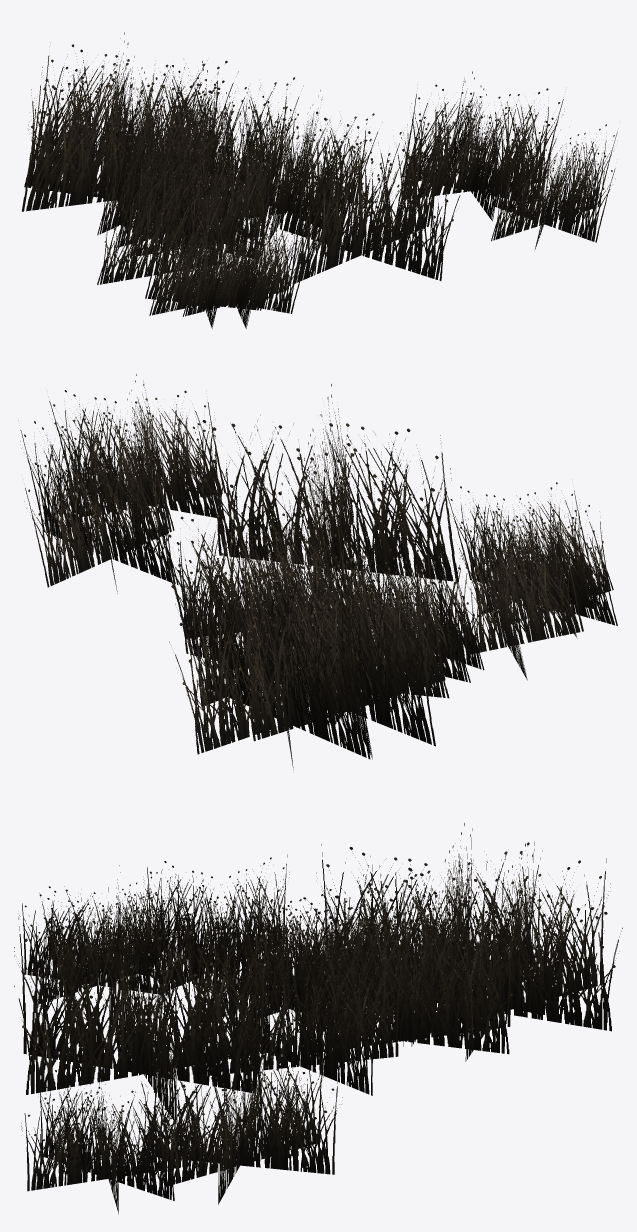
File: sway_dead_grass_patch_2m.glb
3 views of the same model, one above another, from view 1: azimuth 30°, elevation 25°; view 2: azimuth 150°, elevation 25°; view 3: azimuth 270°, elevation 25° (orthographic). The views are drawn at different scales.
Visible parts, largest first — view 1: sway_dead_grass_patch_2m; view 2: sway_dead_grass_patch_2m; view 3: sway_dead_grass_patch_2m.
Part boxes in pixels (x1=…): sway_dead_grass_patch_2m: x1=21, y1=32, x2=617, y2=328; sway_dead_grass_patch_2m: x1=20, y1=374, x2=617, y2=769; sway_dead_grass_patch_2m: x1=14, y1=823, x2=622, y2=1214.
Size of the model in its own units: 2.45 by 0.5765 by 2.1.
1 material, 1 textured.
